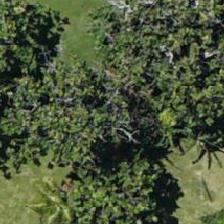coconut_tree: (18, 160, 108, 223)
